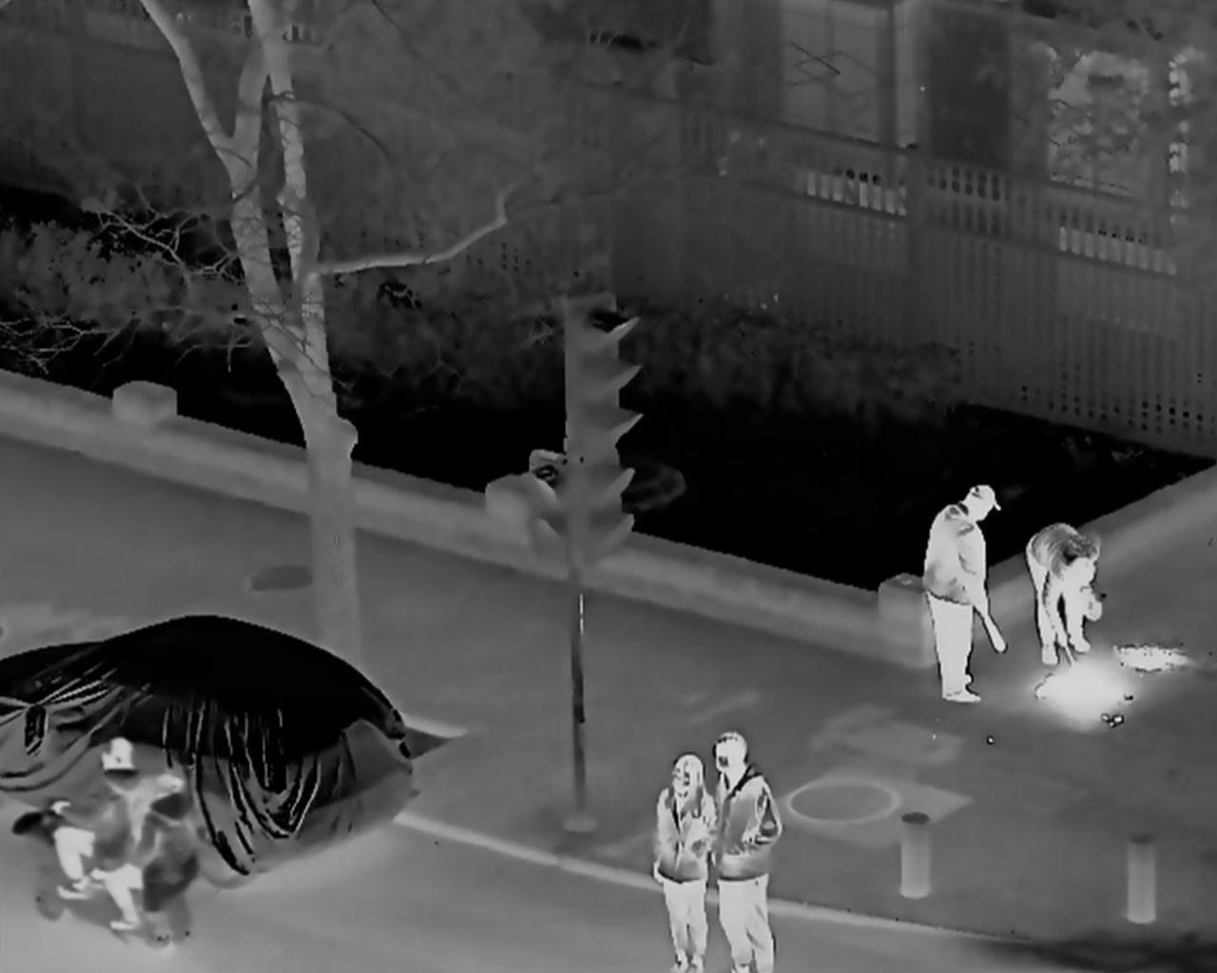person: (703, 735, 786, 973), (918, 485, 1007, 697), (49, 735, 144, 904), (650, 754, 719, 973), (100, 781, 201, 927), (1019, 518, 1103, 664)
